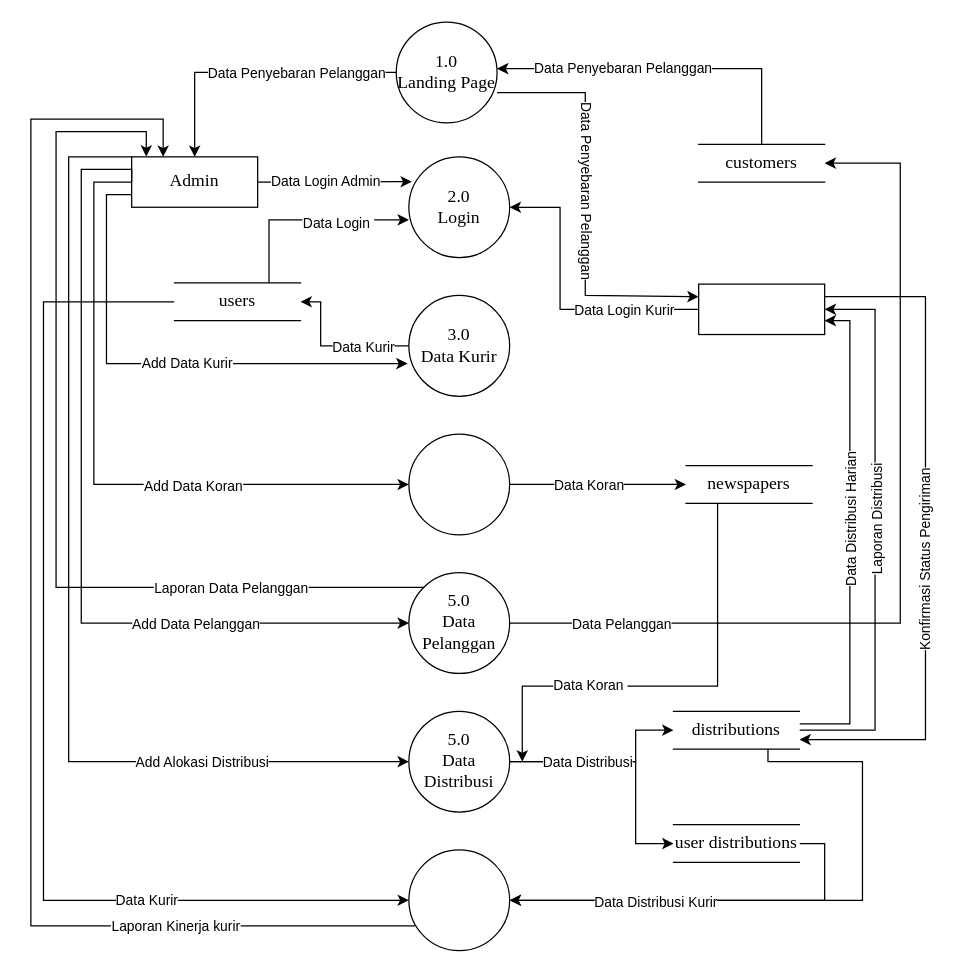
Some shapes in this 958 by 973 pixel diagram are drawn without their labels. The shapes that lost their labels are listed below. From the top down, each one's centre as x and y in pixels, then its label:
At point 761,309: "Kurir".
At point 459,484: "4.0 Data Koran".
At point 459,900: "6.0 Kinerja Kurir".
